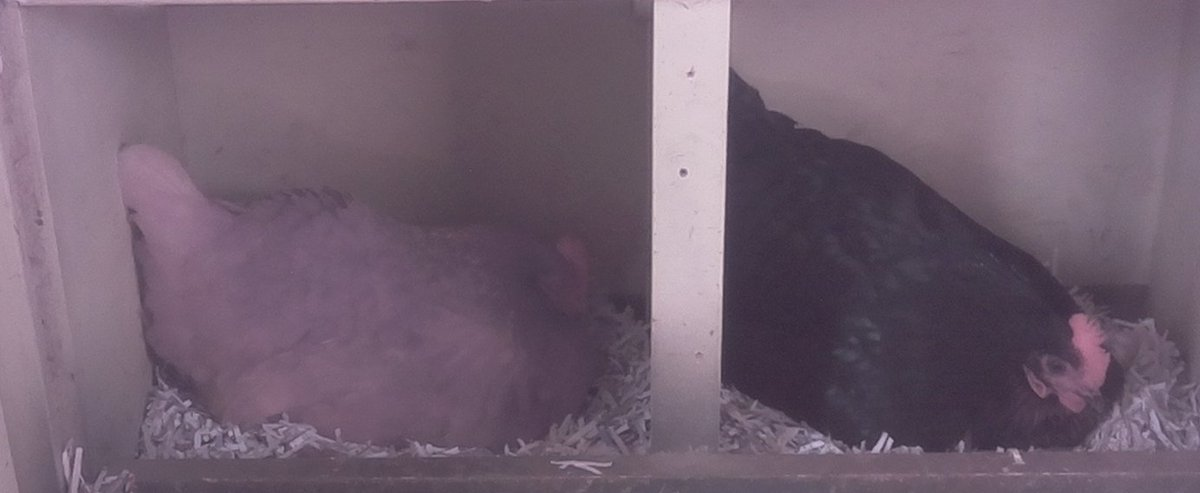hen: (729, 97, 1129, 446), (117, 169, 610, 449)
